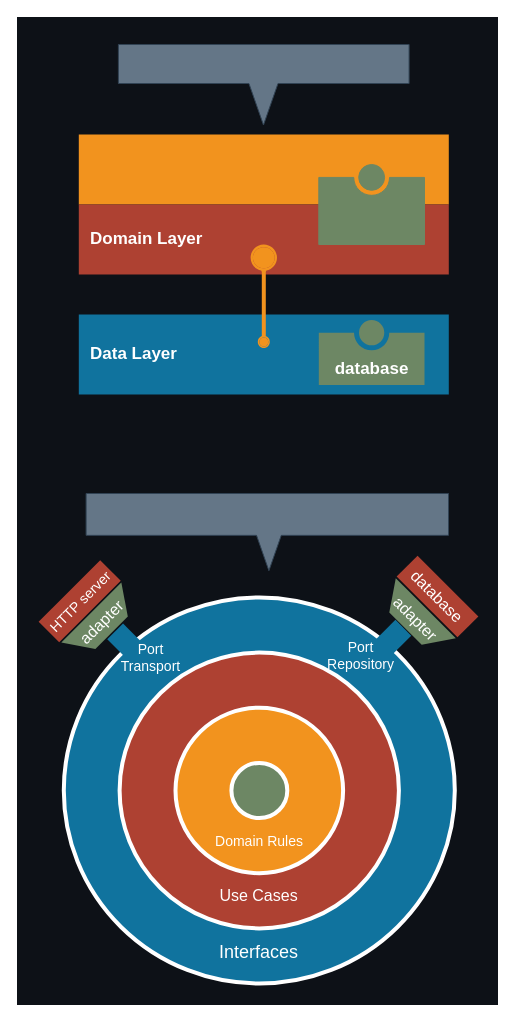
Image size: 515x1022. Some labels were removed from this diagram. Here are the shapes that lost their labels. From the top down, the centre of each, then its label:
At (263,84): "System architecture: Monolith".
At (263,169): "Interface Layer".
At (371,204): "sevrer".
At (266,531): "Software architecture: Rich Domain Model".
At (259,790): "Models".
